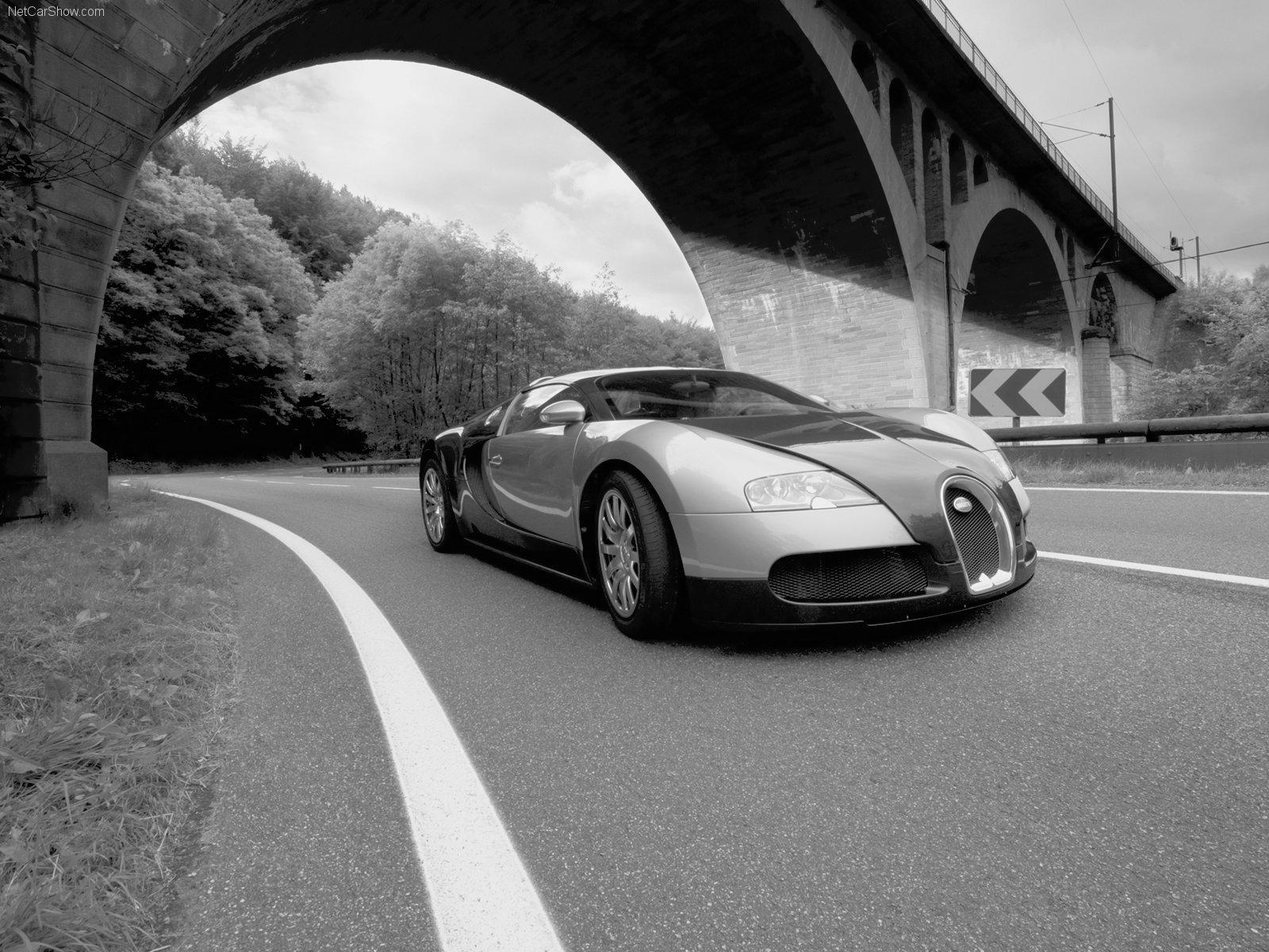car: (420, 367, 1036, 641)
